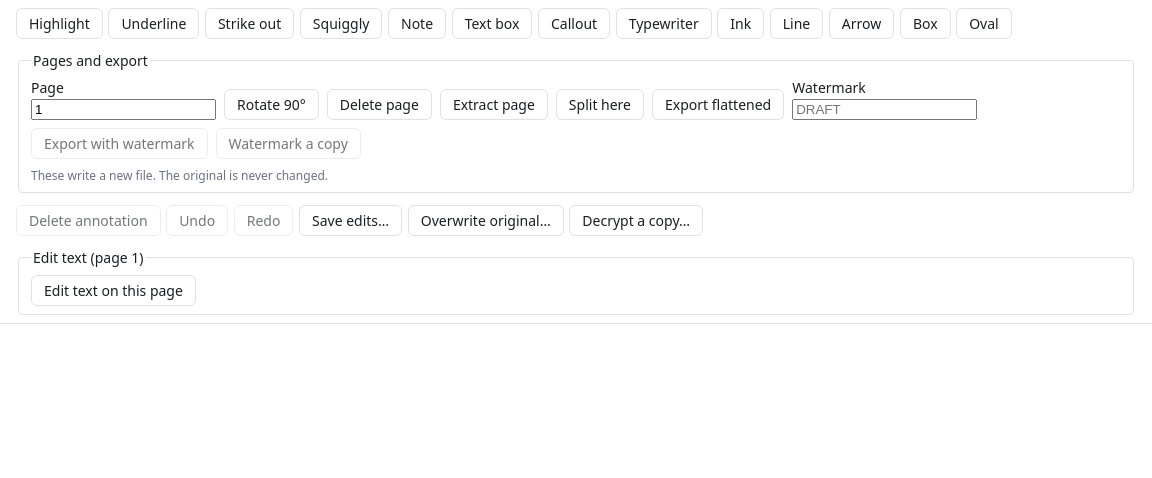
Test: D15: the control shows the colour that will be drawn › names the current colour in words, so the closed control is readable
Click the button "Text box". click: (492, 24)
box: left=452, top=8, right=532, bottom=39
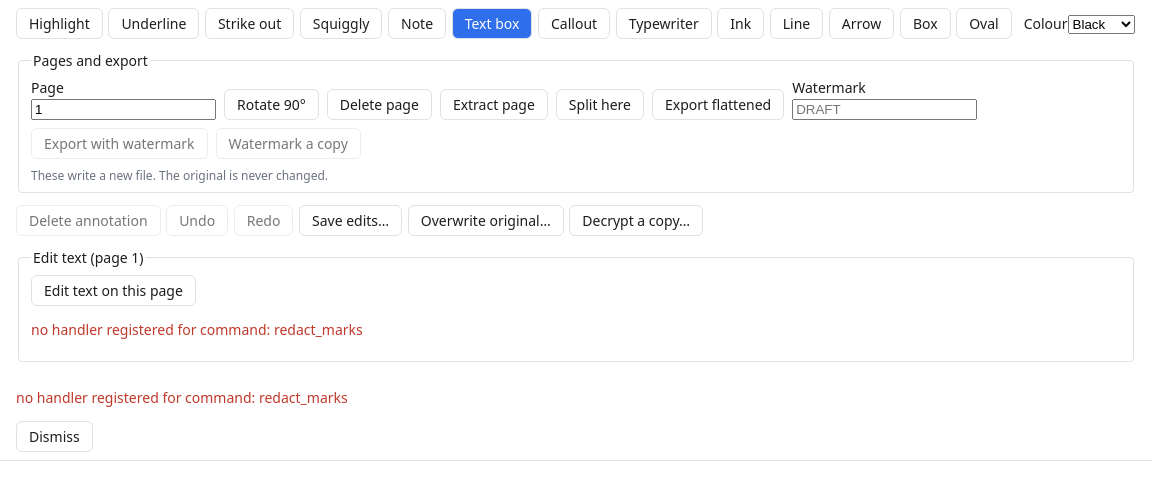
Check: the dropdown labelled "Colour" shows "Black", box left=1068, top=14, right=1134, bottom=34
